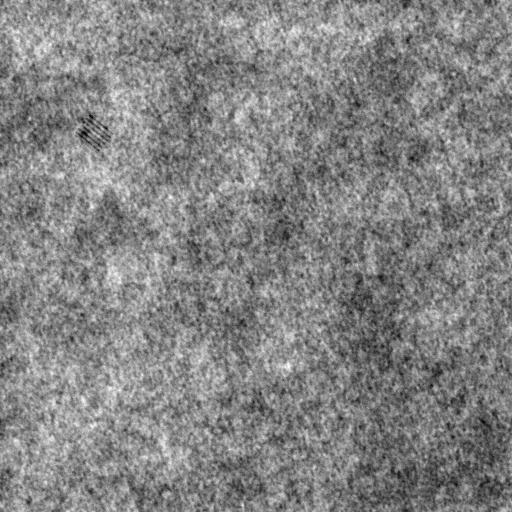DefectTypeB: (75, 116, 113, 153)
